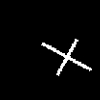single_crochet: (42, 39, 91, 75)
